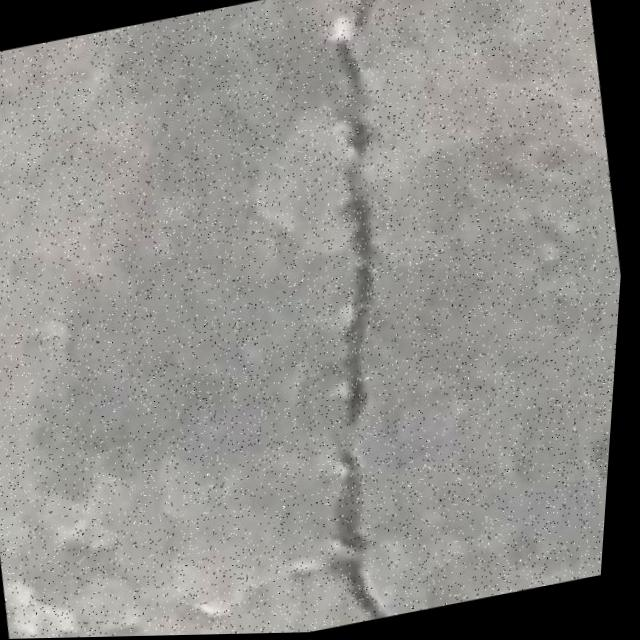Crack: (215, 0, 502, 633)
